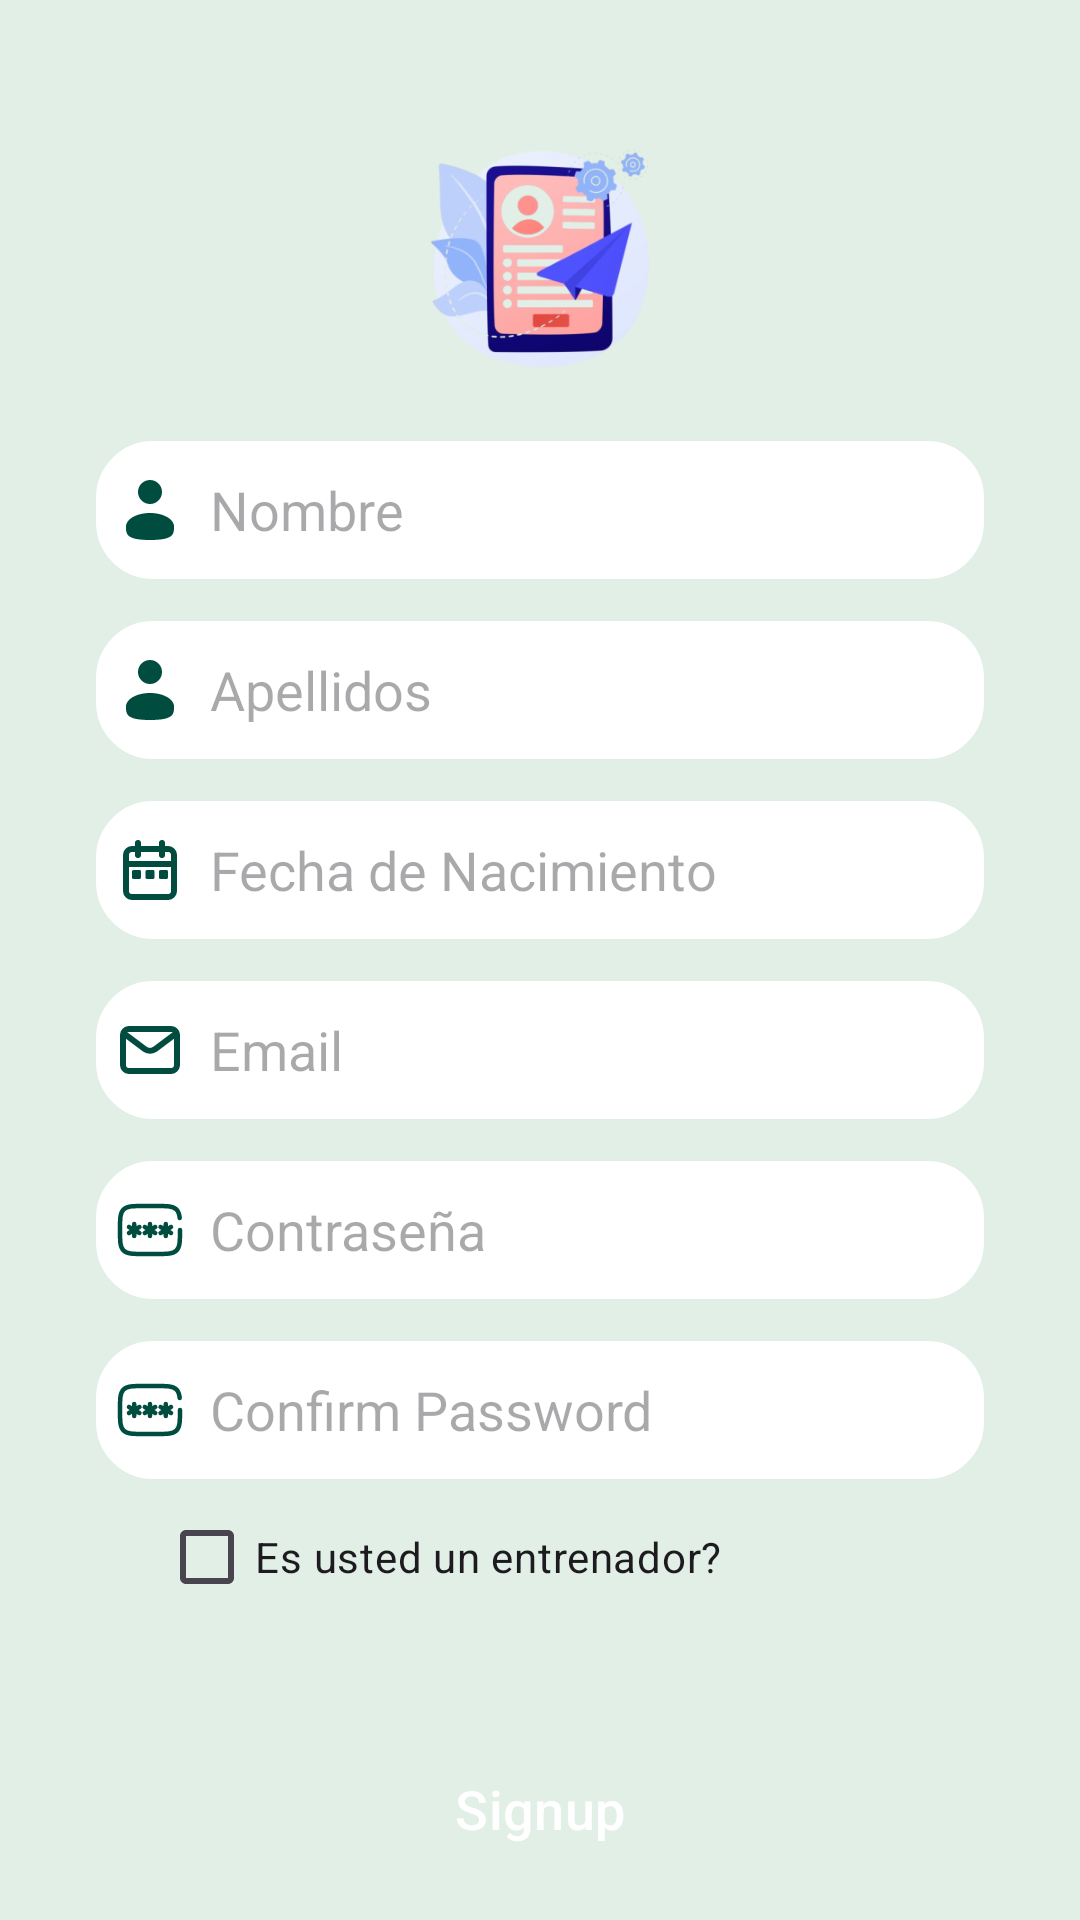

Icon click points for this 1080x1920 phone screenshot, format point (x, y):
signupimg: point (539, 257)
